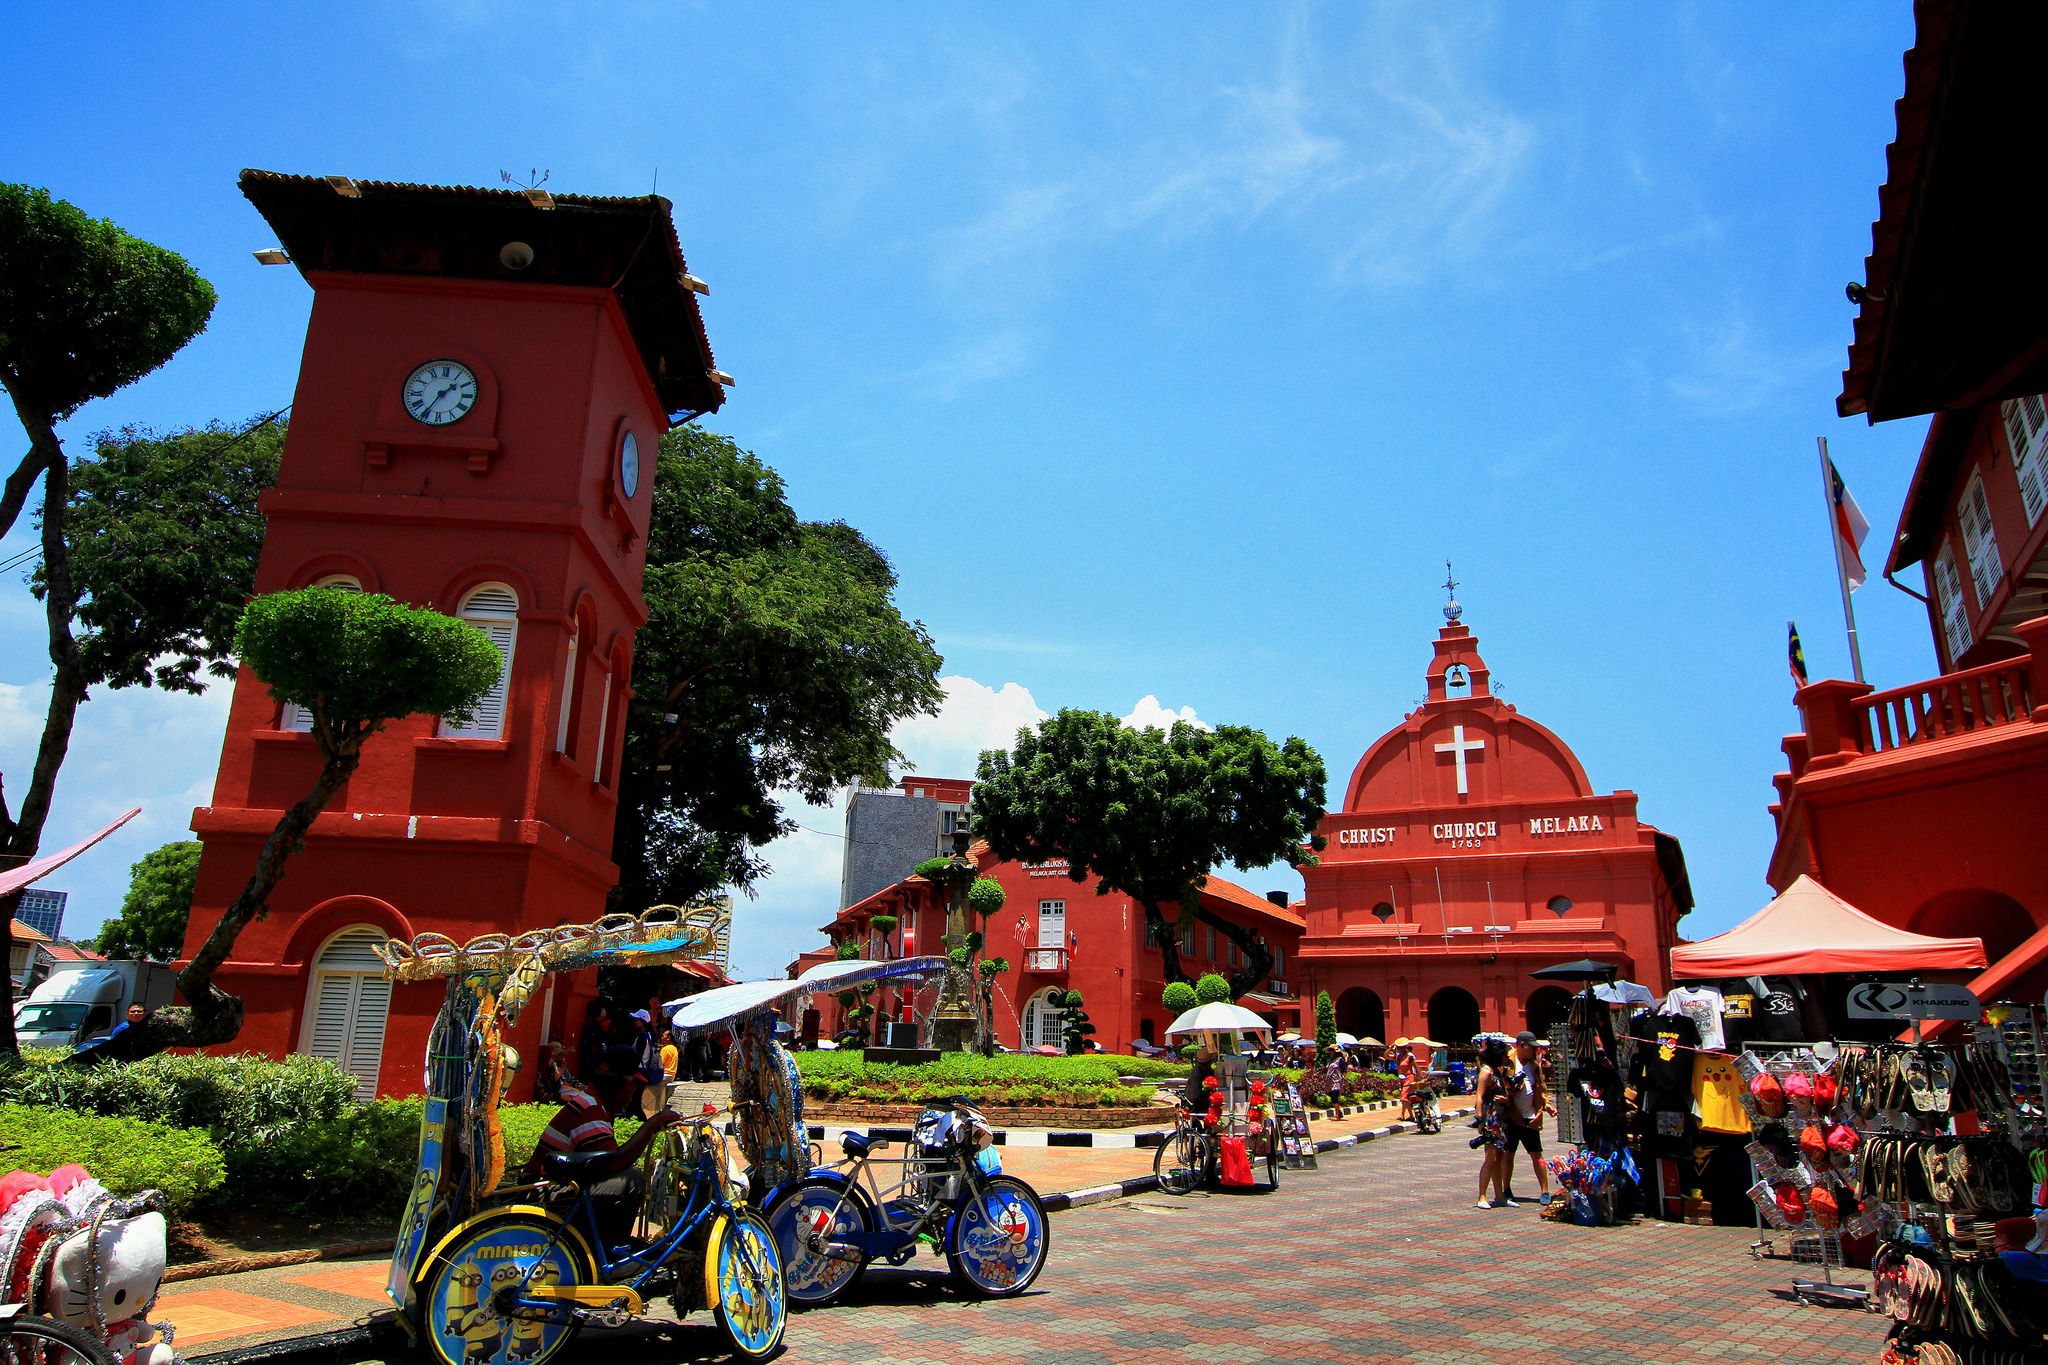Church: (1261, 570, 1637, 1044)
